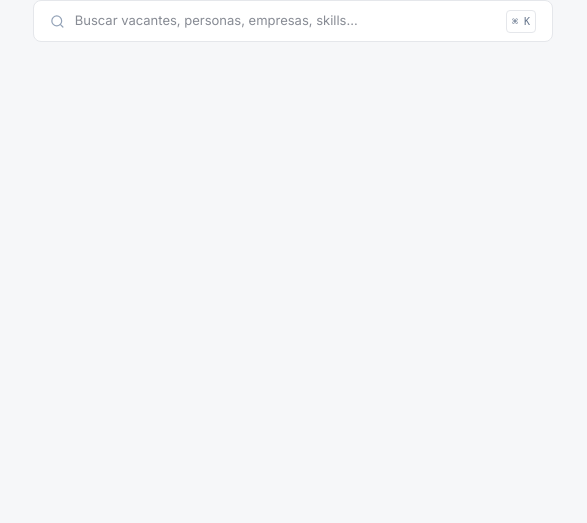
Test: SearchBox › shows the real results grouped once you stop typing
Type "back" into the dropdown.
click(285, 21); type("back")  # box [75, 11, 496, 31]
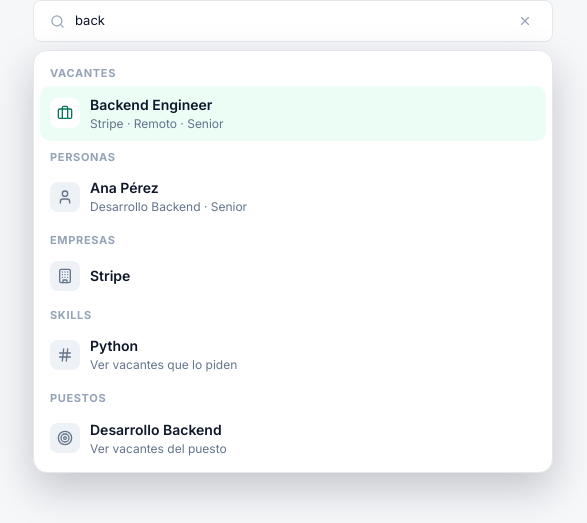
expect the text "Backend Engineer" is shown: met, box [90, 94, 224, 114]
expect the text "Vacantes" is shown: met, box [50, 66, 116, 80]
expect the text "Personas" is shown: met, box [50, 150, 116, 164]
